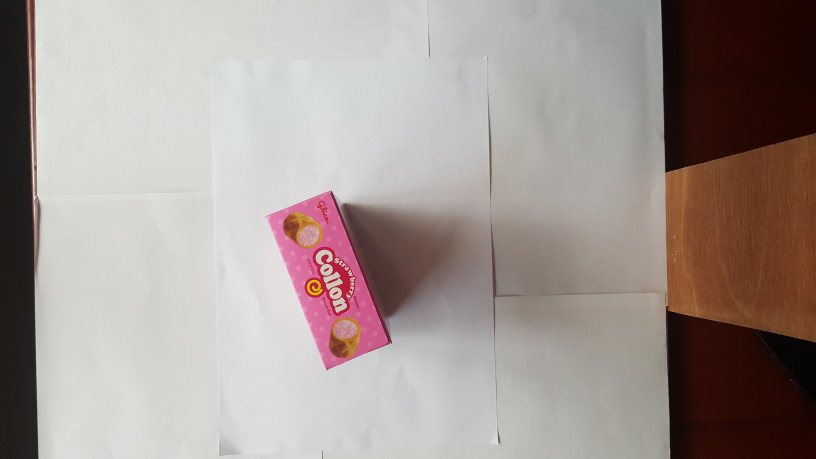collon-strawberry: (265, 189, 394, 374)
